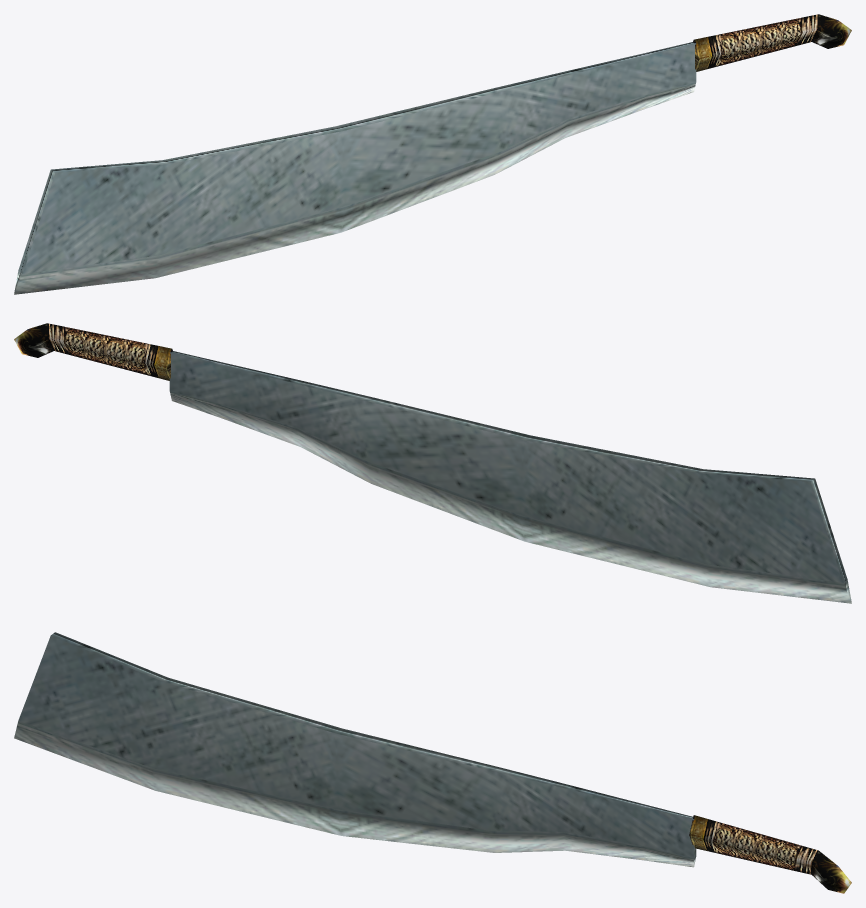
3 renders of one model, top to bottom at view 1: azimuth 30°, elevation 25°; view 2: azimuth 150°, elevation 25°; view 3: azimuth 330°, elevation 25°, orthographic.
Parts seen in each view (by area): view 1: KLINGE; view 2: KLINGE; view 3: KLINGE.
Boxes of the visible parts, box(x1,y1,x2,y2) form: KLINGE: box(14, 14, 851, 294); KLINGE: box(14, 323, 851, 603); KLINGE: box(14, 632, 851, 893).
Size of the model in its own units: 84.75 by 12.76 by 2.
